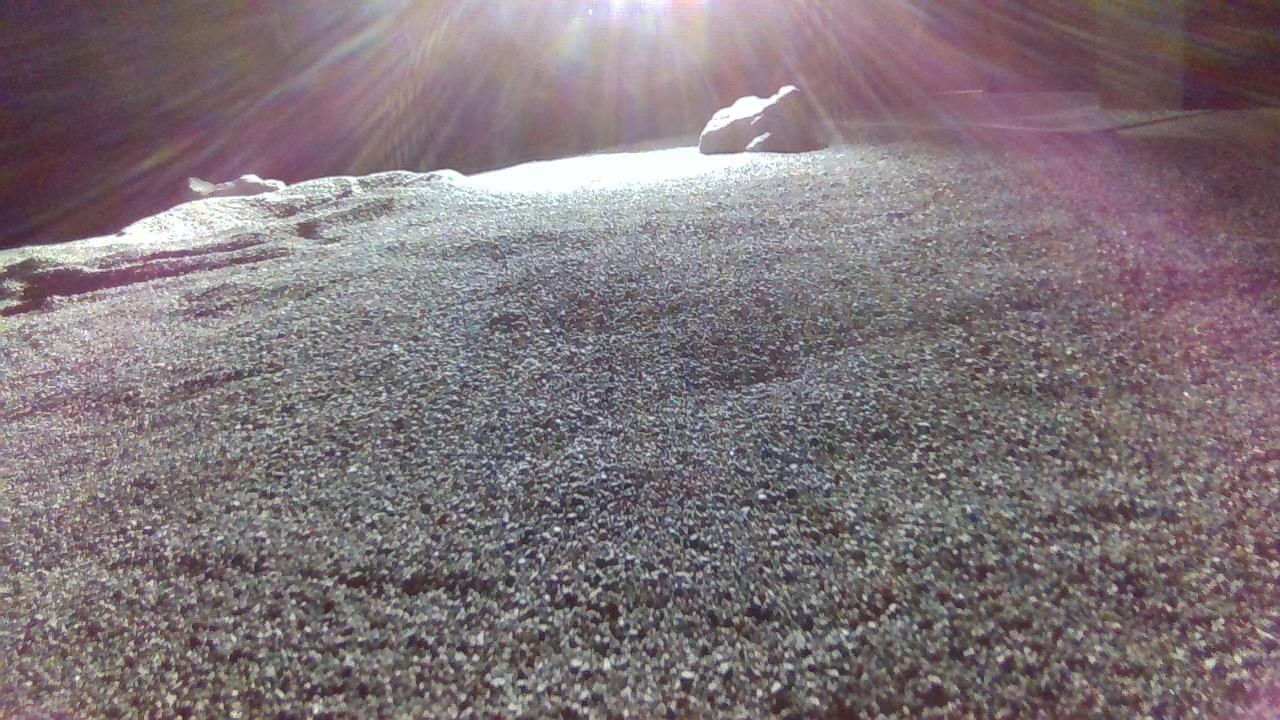rock: (700, 83, 834, 153)
